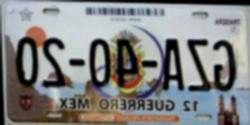License_Plate: (4, 6, 248, 125)
